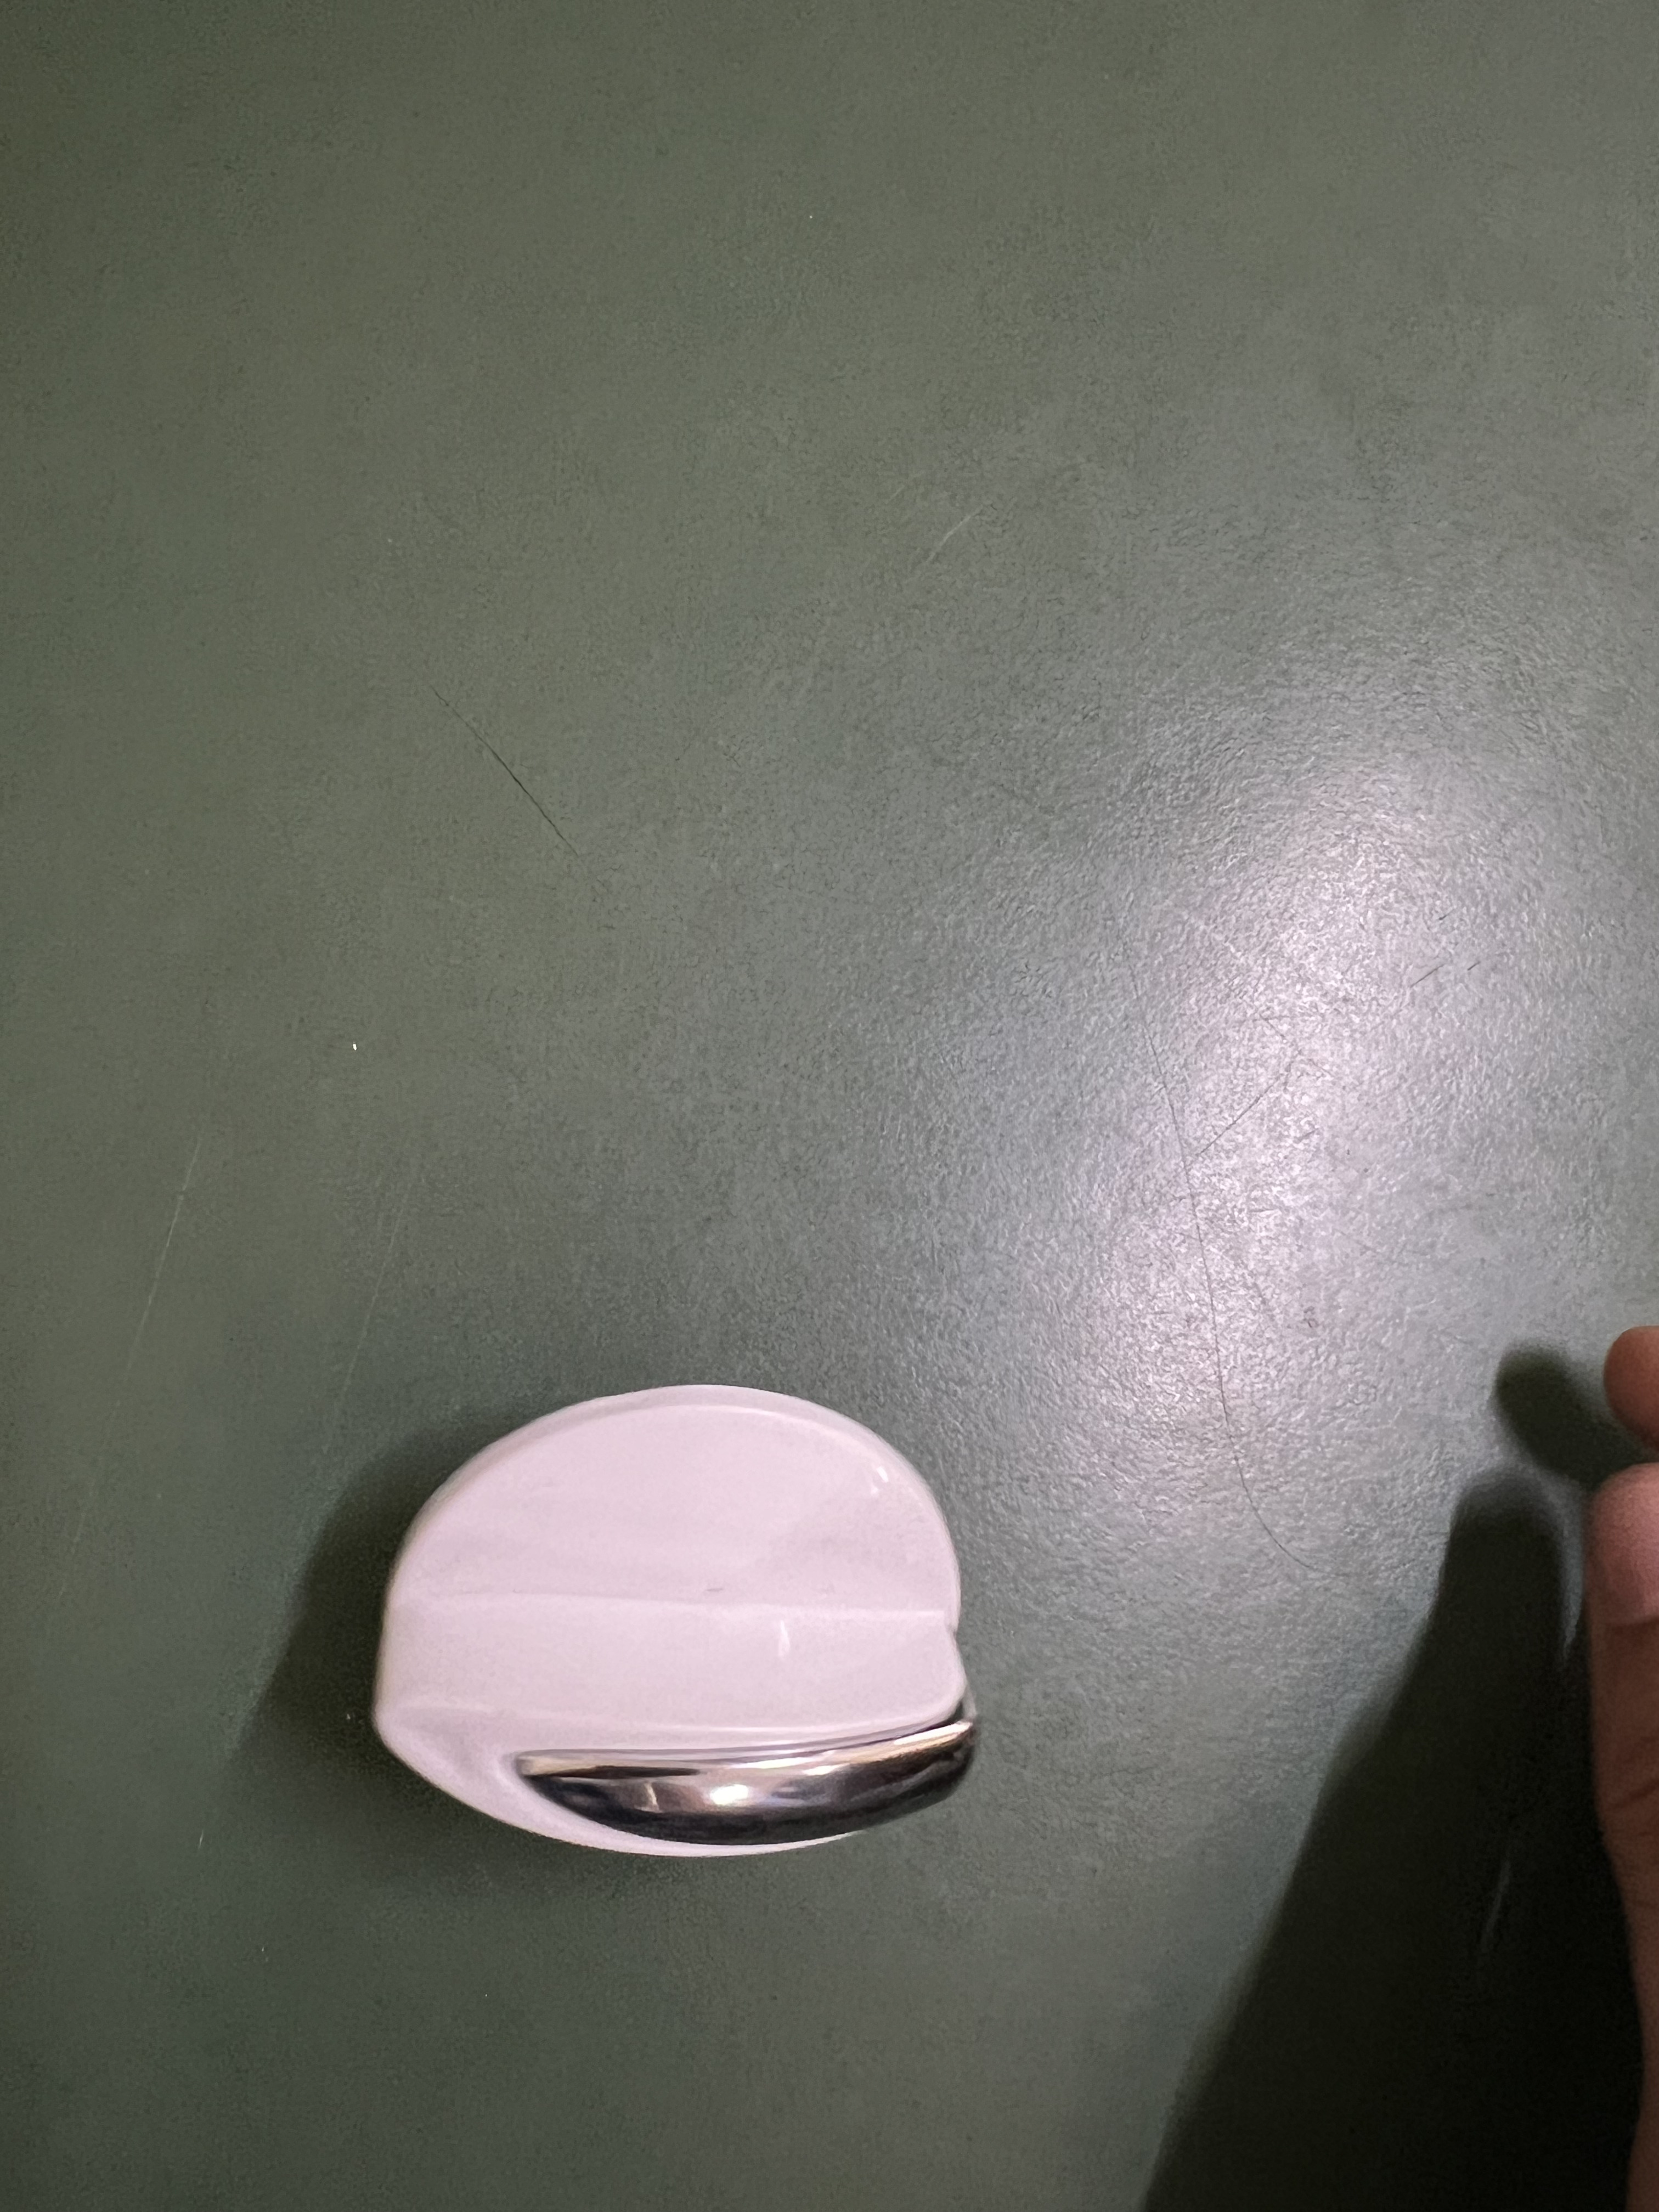regulator: (368, 1374, 981, 1843)
